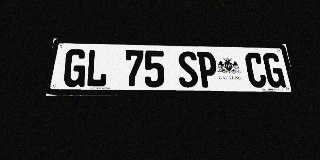5: (144, 50, 165, 87)
7: (123, 50, 144, 87)
C: (244, 52, 268, 88)
G: (62, 49, 87, 87), (262, 53, 286, 88)
L: (85, 49, 108, 87)
P: (197, 51, 219, 87)
S: (177, 51, 199, 87)
